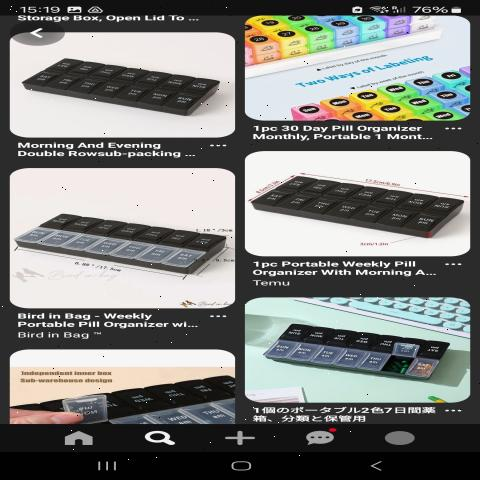PillBox: (258, 160, 462, 246), (13, 207, 233, 285), (260, 312, 462, 388), (20, 52, 225, 120)
